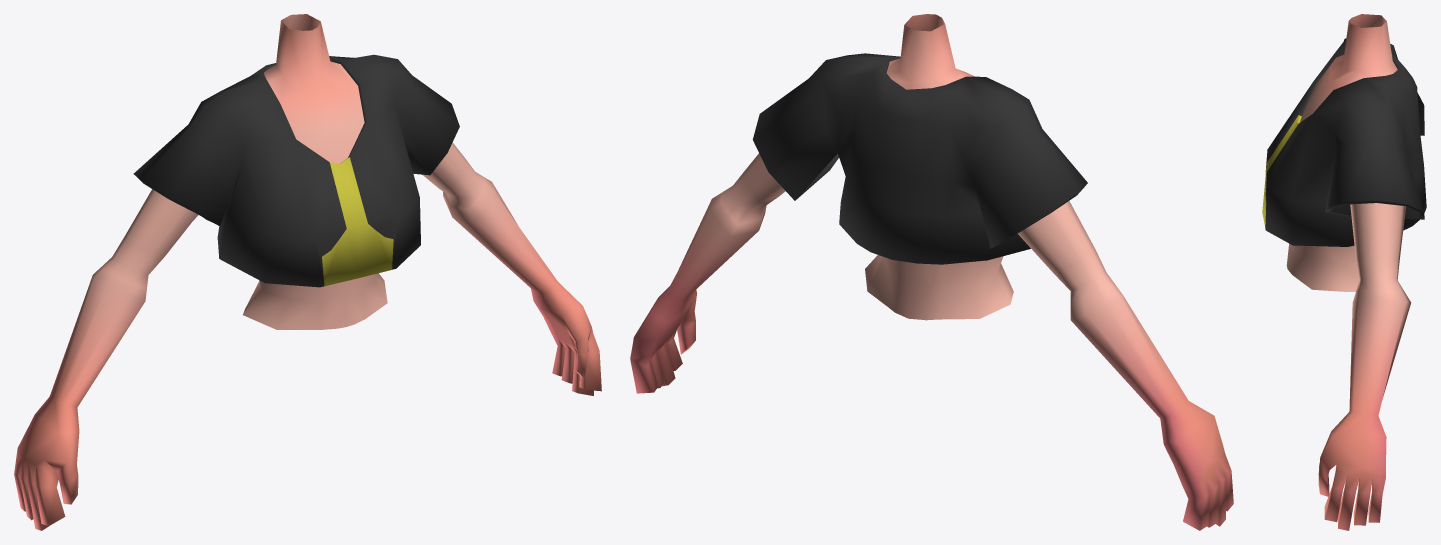
Rendered from OutfitC_Top.glb.
3 renders of one model, left to right at view 1: azimuth 30°, elevation 25°; view 2: azimuth 150°, elevation 25°; view 3: azimuth 270°, elevation 25°, orthographic. The views are drawn at different scales.
Visible parts, largest first — view 1: OutfitC_Top; view 2: OutfitC_Top; view 3: OutfitC_Top.
Boxes of the visible parts, <box> form: OutfitC_Top: <box>14,14,601,530</box>; OutfitC_Top: <box>630,14,1233,530</box>; OutfitC_Top: <box>1262,14,1426,530</box>.
Bounding box in the file's own units: 2.56 × 1.88 × 0.7207.
